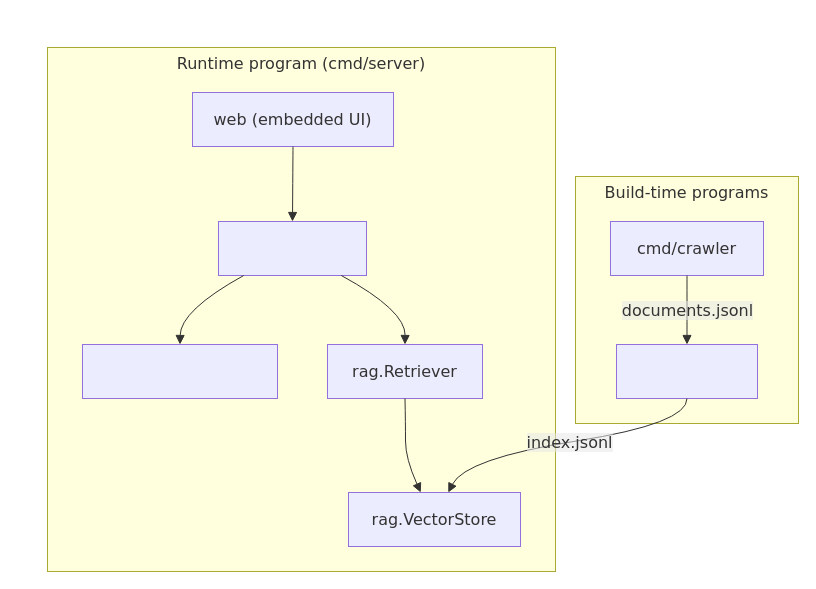
This 816x589 diagram has some shape labels left out. Each missing label, with the centre of its shape:
cmd/ingest: [687,371]
llm (Ollama client): [180,371]
services/ask: [292,248]
